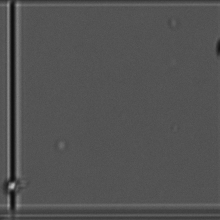Living Cell: (3, 175, 27, 199)
